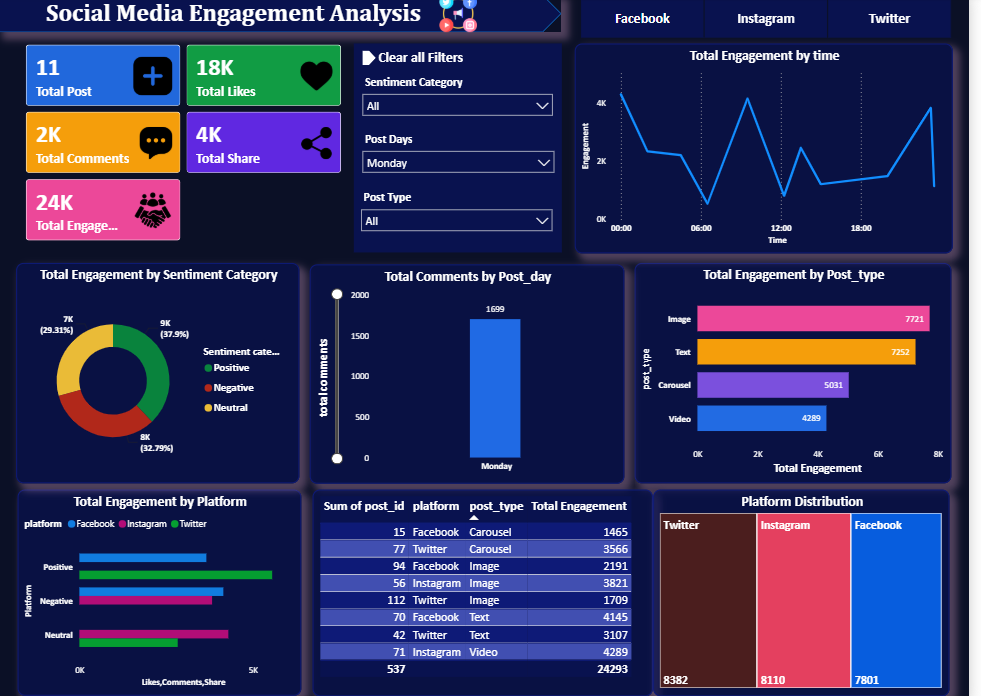

What the dashboard file says about the page in this screenshot:
{"tool":"powerbi","page":{"name":"Page 1","canvas":[1300,950],"ordinal":0},"visuals":[{"type":"shape","box":[0,0,753.8,50],"z":0},{"type":"cardVisual","fields":{"Data":["social_media_engagement1.total post","social_media_engagement1.total likes","social_media_engagement1.total comments","social_media_engagement1.total shares","social_media_engagement1.Total Engagement"]},"box":[20,50,456,296],"z":1000},{"type":"donutChart","title":"Total Engagement by Sentiment Category","fields":{"Category":["social_media_engagement1.sentiment_score"],"Y":["social_media_engagement1.Total Engagement"]},"box":[22,358,379.7,295.1],"z":2000,"group":"g1"},{"type":"clusteredBarChart","title":"Total Engagement by Platform","fields":{"Y":["social_media_engagement1.Total Engagement"],"Category":["social_media_engagement1.sentiment_score"],"Series":["social_media_engagement1.platform"]},"box":[25.6,663.3,380,276.7],"z":2000},{"type":"slicer","fields":{"Values":["social_media_engagement1.platform"]},"box":[755,0,545,63.8],"z":3000},{"type":"barChart","title":"Total Engagement by Post_type","fields":{"Category":["social_media_engagement1.post_type"],"Y":["social_media_engagement1.Total Engagement"]},"box":[850.3,358,424.5,295.1],"z":3000,"group":"g1"},{"type":"group","id":"g1","title":"Group 2","box":[22,74,1252.9,579.7],"z":4000},{"type":"columnChart","title":"Total Comments by Post_day","fields":{"Category":["social_media_engagement1.post_day"],"Y":["social_media_engagement1.total comments"]},"box":[415.3,359.9,421.4,293.8],"z":4000,"group":"g1"},{"type":"lineChart","fields":{"Category":["social_media_engagement1.time"],"Y":["social_media_engagement1.Total Engagement"]},"box":[771.8,64.3,506.5,281.4],"z":5000},{"type":"slicer","fields":{"Values":["social_media_engagement1.post_day"]},"box":[477.6,176.4,276.5,89.7],"z":5000,"group":"g2"},{"type":"textbox","box":[38.6,0,551.5,49.8],"z":6000},{"type":"group","id":"g2","title":"Group 3","box":[476,64.3,278.2,281.4],"z":7000},{"type":"slicer","fields":{"Values":["social_media_engagement1.post_type"]},"box":[476,255.1,276.2,90],"z":7000,"group":"g2"},{"type":"slicer","fields":{"Values":["social_media_engagement1.sentiment_score"]},"box":[477.6,101.3,274.5,91.8],"z":8000,"group":"g2"},{"type":"tableEx","title":"Top 5 Performing Posts","fields":{"Values":["Sum(social_media_engagement1.post_id)","social_media_engagement1.platform","social_media_engagement1.post_type","social_media_engagement1.Total Engagement"]},"box":[420.1,662.6,456.4,276.9],"z":8000},{"type":"shape","box":[487.1,74,18.2,19.4],"z":9000,"group":"g2"},{"type":"treemap","title":"Platform Distribution","fields":{"Group":["social_media_engagement1.platform"],"Values":["social_media_engagement1.Total Engagement"]},"box":[876.5,662.6,397.2,276.9],"z":9000},{"type":"actionButton","box":[648,74,100,40],"z":9002,"group":"g1"},{"type":"image","box":[562.5,0,103.8,50],"z":10000},{"type":"actionButton","box":[504.3,64.3,178.1,36.7],"z":10000,"group":"g2"}]}

Visuals, with their boxes on the page's 1300x950 design canvas (x1, y1, x2, y2). These are canvas units, not pixel positions in the 981x696 screenshot, which may show the page scaled, cropped or inside an application window:
shape: (0,0,754,50)
cardVisual - social_media_engagement1.total post x social_media_engagement1.total likes: (20,50,476,346)
"Total Engagement by Sentiment Category" donutChart: (22,358,402,653)
"Total Engagement by Platform" clusteredBarChart: (26,663,406,940)
slicer - social_media_engagement1.platform: (755,0,1300,64)
"Total Engagement by Post_type" barChart: (850,358,1275,653)
"Group 2" group: (22,74,1275,654)
"Total Comments by Post_day" columnChart: (415,360,837,654)
lineChart - social_media_engagement1.time x social_media_engagement1.Total Engagement: (772,64,1278,346)
slicer - social_media_engagement1.post_day: (478,176,754,266)
textbox: (39,0,590,50)
"Group 3" group: (476,64,754,346)
slicer - social_media_engagement1.post_type: (476,255,752,345)
slicer - social_media_engagement1.sentiment_score: (478,101,752,193)
"Top 5 Performing Posts" tableEx: (420,663,876,940)
shape: (487,74,505,93)
"Platform Distribution" treemap: (876,663,1274,940)
actionButton: (648,74,748,114)
image: (562,0,666,50)
actionButton: (504,64,682,101)
